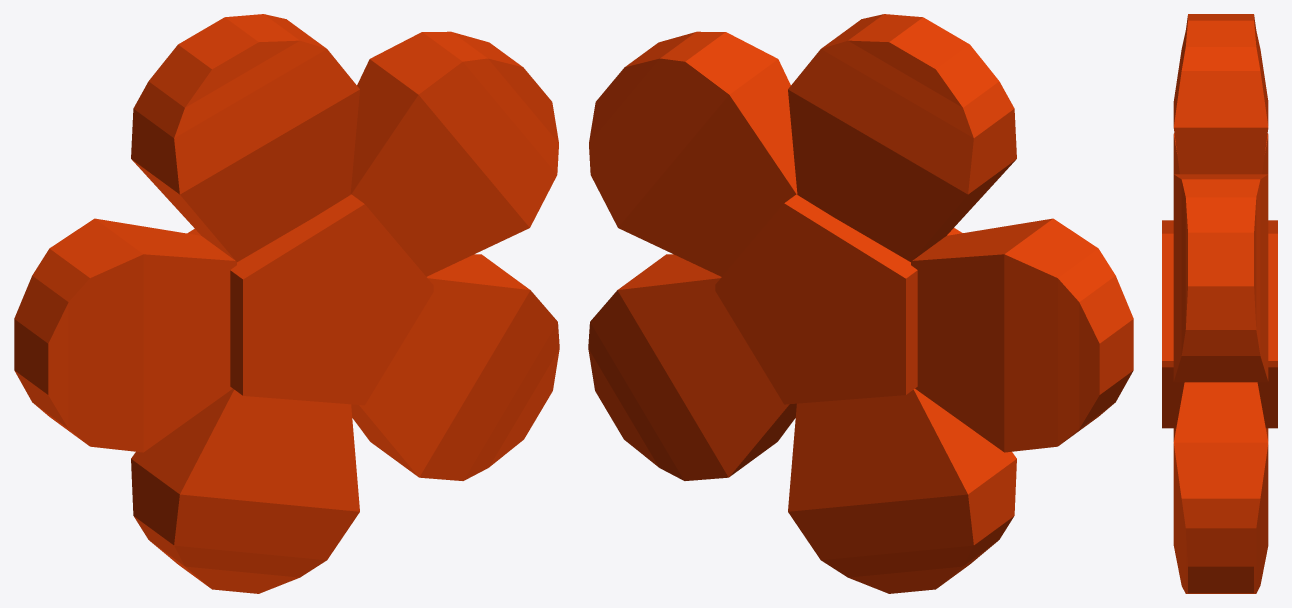
The model's file is flower.fbx.
3 views of the same model, side by side, from view 1: azimuth 30°, elevation 25°; view 2: azimuth 150°, elevation 25°; view 3: azimuth 270°, elevation 25° (orthographic). The views are drawn at different scales.
Parts seen in each view (by area): view 1: Cube.005; view 2: Cube.005; view 3: Cube.005.
Part boxes in pixels (x1,y1,x2,y2): Cube.005: (14, 14, 559, 593); Cube.005: (588, 14, 1133, 593); Cube.005: (1162, 14, 1277, 593).
Bounding box in the file's own units: 104 × 107 × 21.02.
